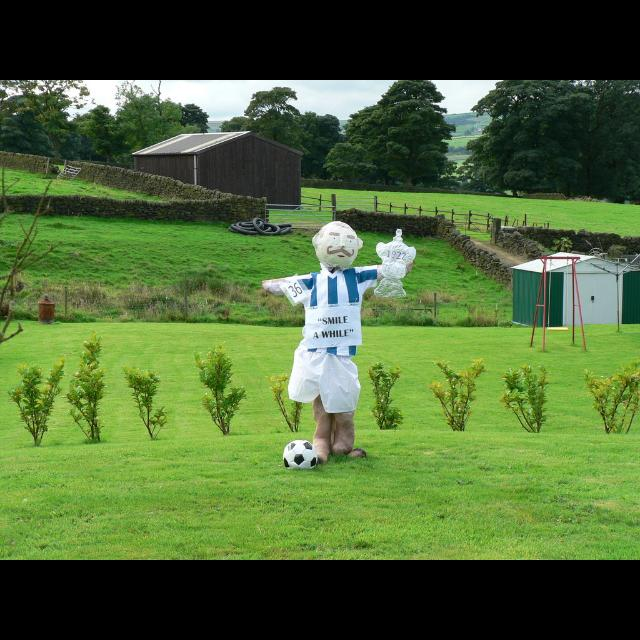Football: (281, 436, 315, 469)
